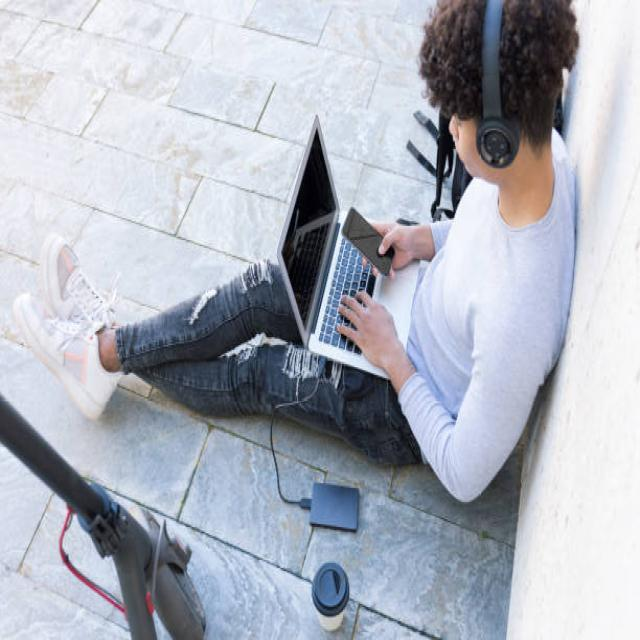Headphone: (472, 0, 522, 169)
